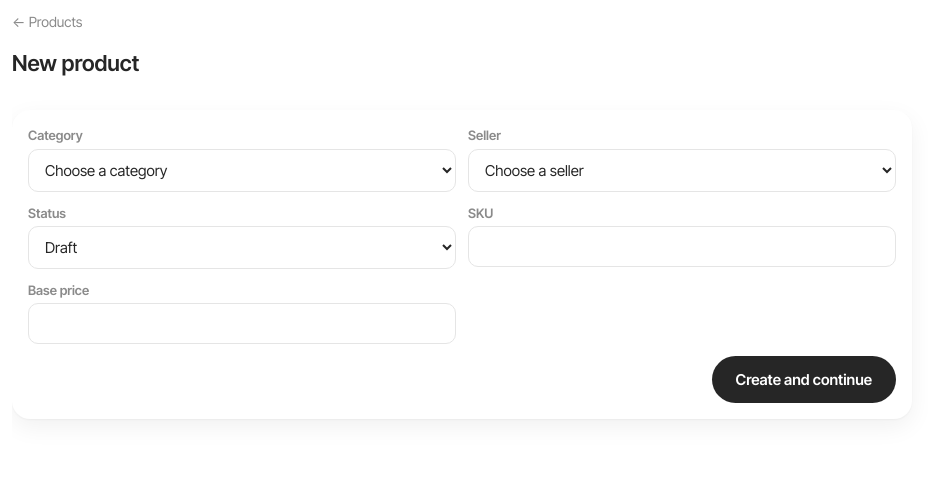
Scenario: ProductEditorScreen: new product › explains a duplicate SKU
Select "Lipstick" in the dropdown labelled "Category" at (242, 170), box [28, 149, 456, 192]
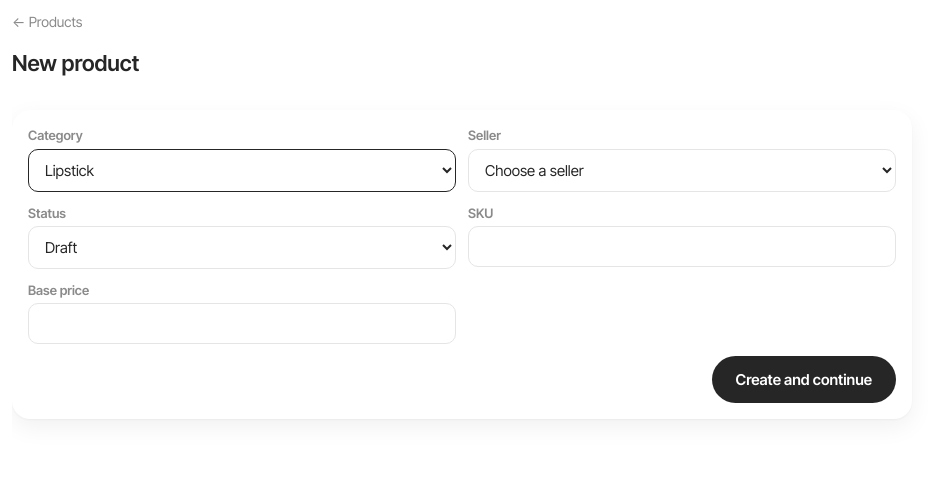
Select "Lola Beauty" in the dropdown labelled "Seller" at (682, 170), box [468, 149, 896, 192]
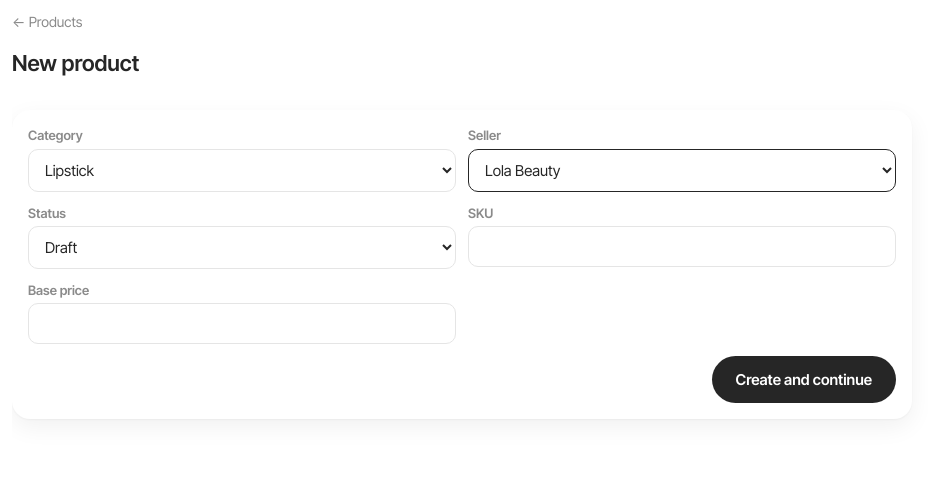
Type "LIP-VELVET" into the field labelled "SKU" at (682, 246), box [468, 226, 896, 267]
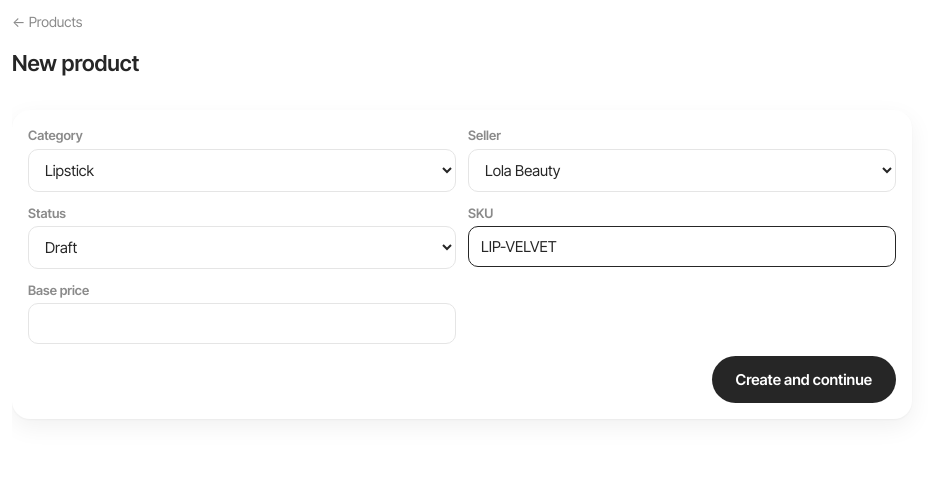
Type "1" into the field labelled "Base price" at (242, 324), box [28, 303, 456, 344]
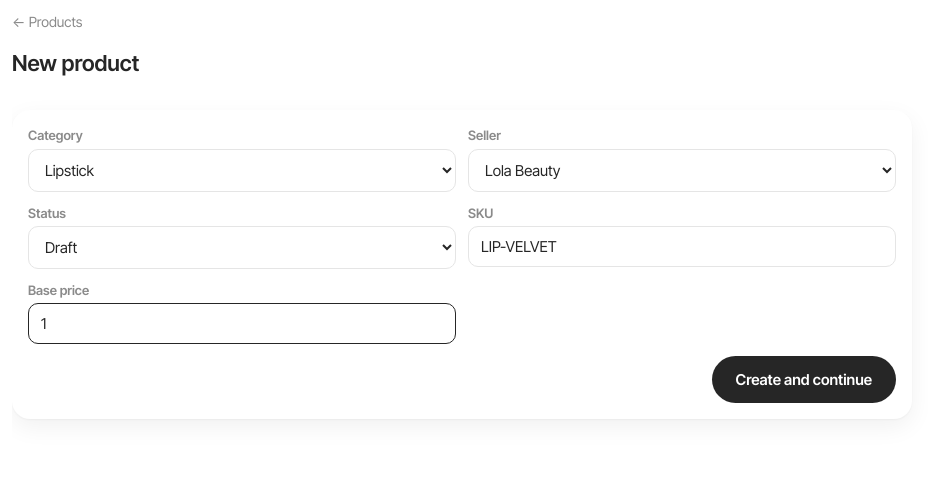
Click the button "Create and continue" at (804, 380), box [712, 356, 896, 403]
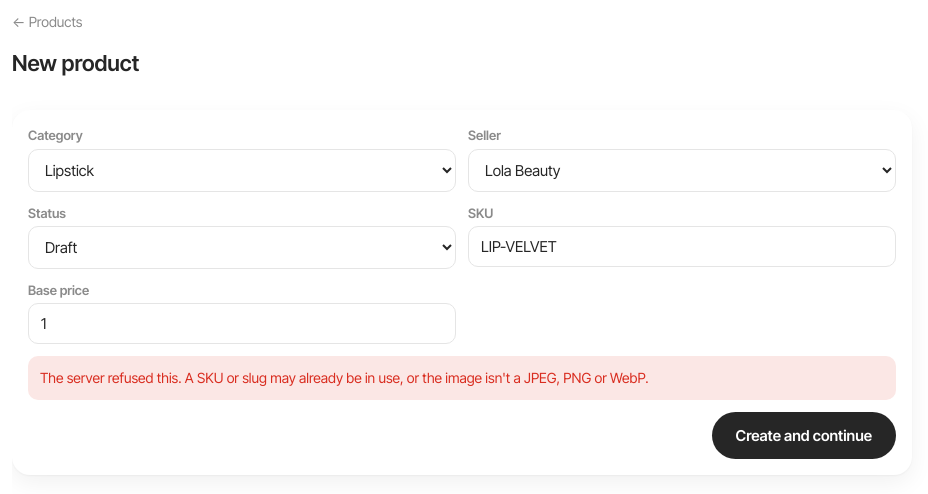
Expected: the message shows "SKU or slug may already be in use", [40, 369, 648, 386]
